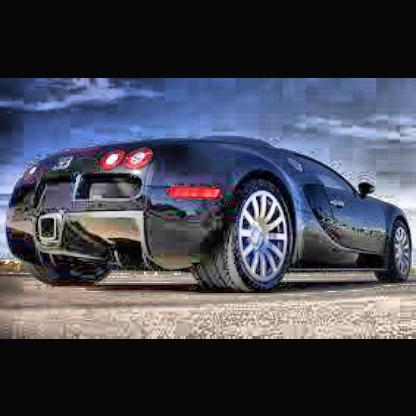Bugatti Veyron 16-4 Coupe 2009: (7, 138, 414, 295)
